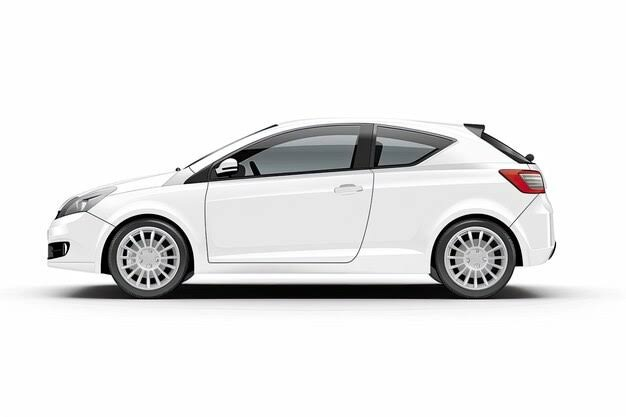car: (37, 122, 569, 297)
